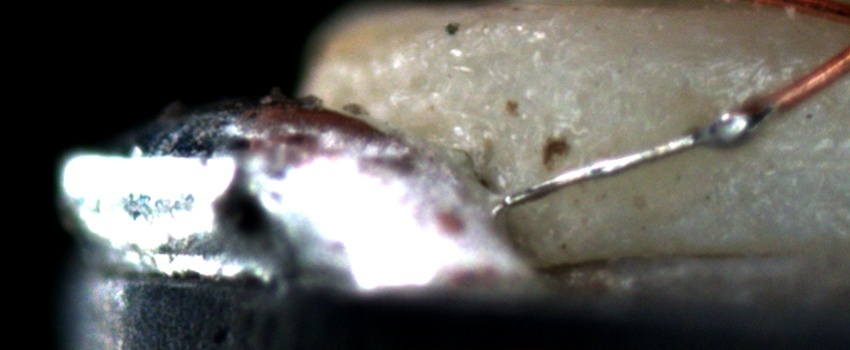DL: (632, 43, 849, 88)
TB: (695, 100, 777, 154)
TS: (505, 102, 776, 205)
TTCW: (499, 67, 823, 212)
